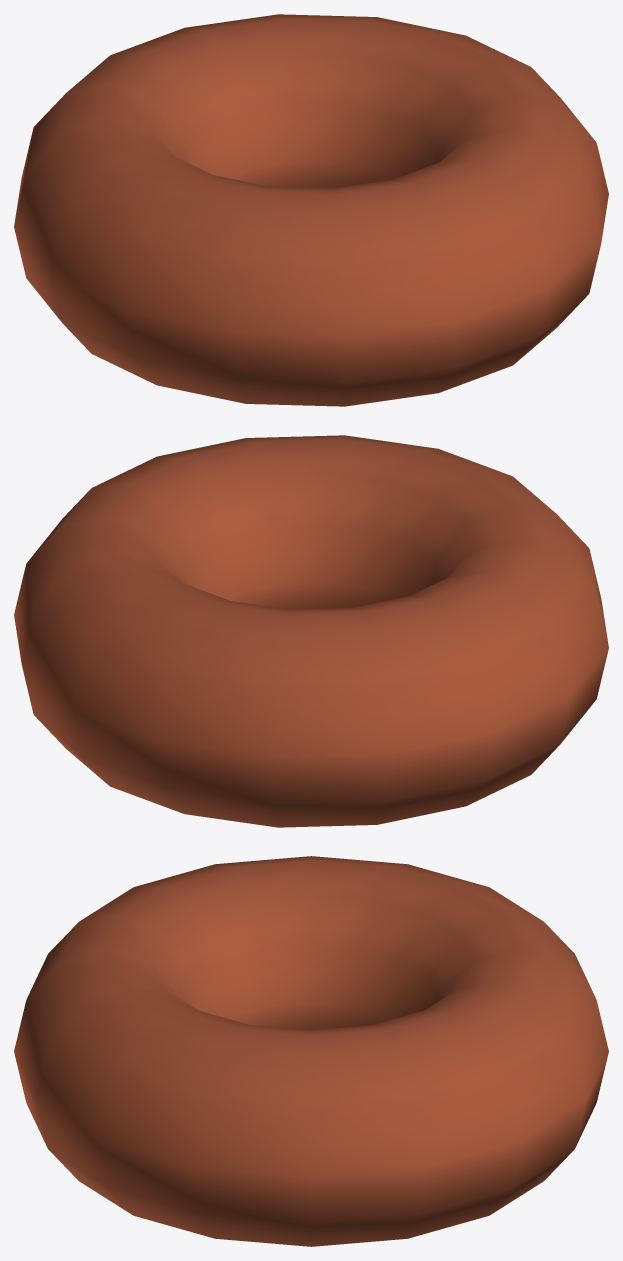
Rendered from Donut_V1_01.fbx.
3 renders of one model, top to bottom at view 1: azimuth 30°, elevation 25°; view 2: azimuth 150°, elevation 25°; view 3: azimuth 270°, elevation 25°, orthographic.
Visible parts, largest first — view 1: Donut_V1_01; view 2: Donut_V1_01; view 3: Donut_V1_01.
Boxes of the visible parts, x1,y1,x2,y2 form: Donut_V1_01: [14, 14, 608, 406]; Donut_V1_01: [14, 435, 608, 827]; Donut_V1_01: [14, 856, 608, 1246].
Size of the model in its own units: 40.77 by 15.54 by 40.77.
